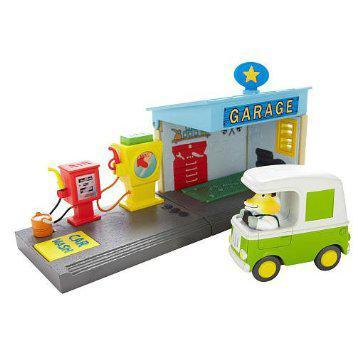car: (228, 165, 353, 284)
